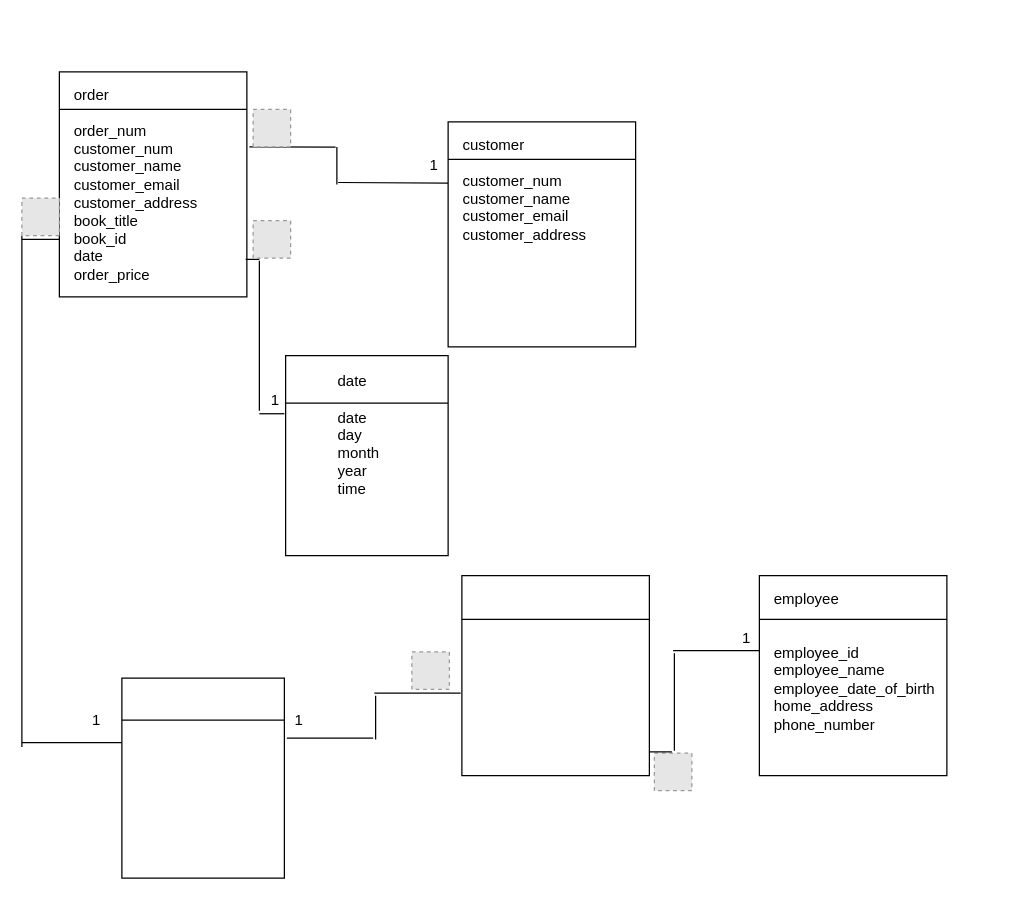
The diagram is 1019 pixels wide and 900 high, and some of its shapes have lost their labels. Grey dashed boxes stand in for pictures. Each missing label, with the centre of its shape:
book book_id book_title book_doi author book_price available_qty: (x=202, y=777)
sales sale_id order_num customer_num book_id sale_price date employee_id: (x=555, y=675)
